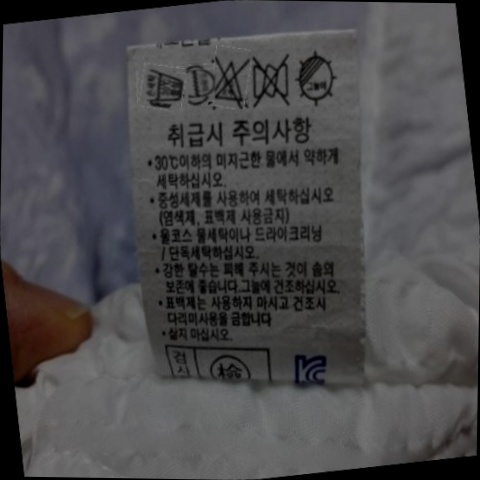DN_wring: (249, 52, 298, 107)
dry_clean: (181, 64, 216, 102)
hand_wash: (139, 60, 189, 108)
non_chlorine_bleach: (209, 53, 251, 107)
shade_dry: (291, 48, 344, 110)
